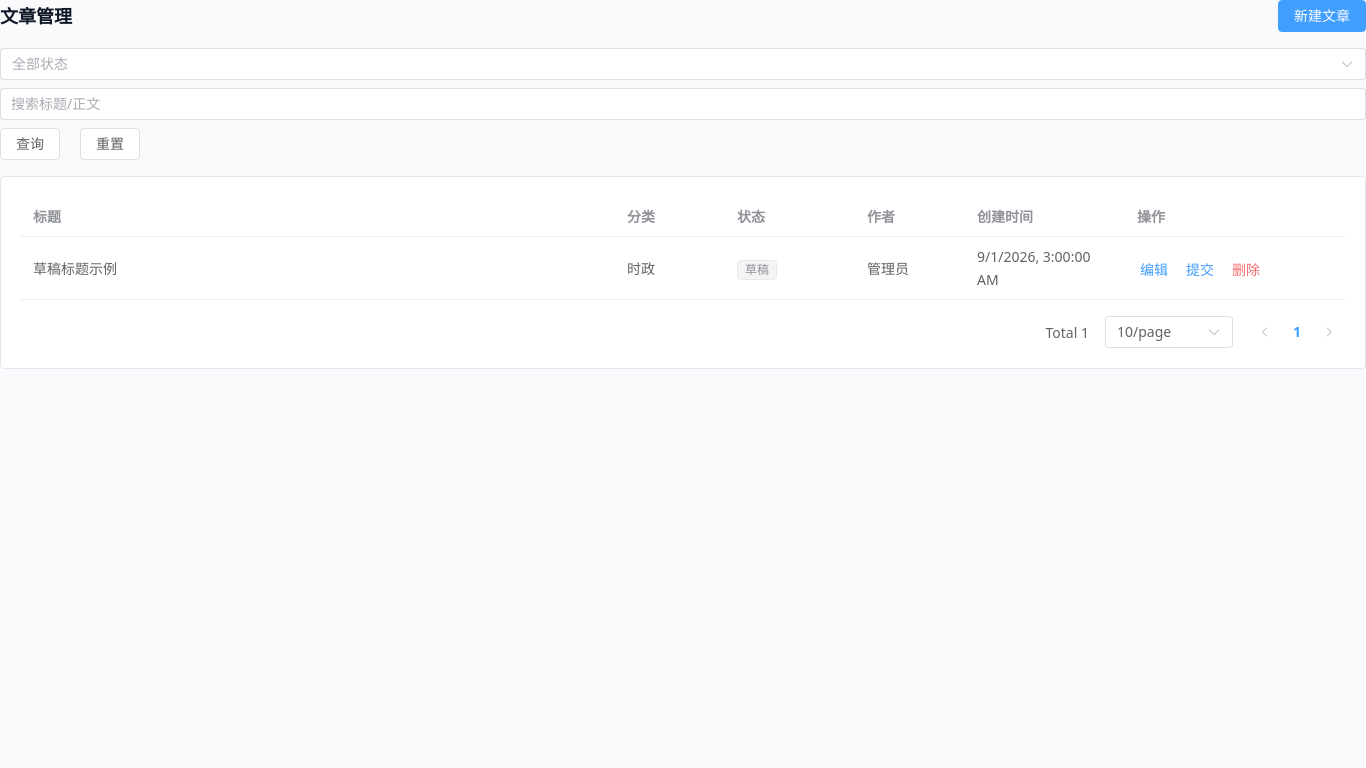
Test case: ArticlesView › 点击编辑打开对话框并回填文章内容
Step 1. Click the button "编辑" → (1154, 270), box [1137, 260, 1171, 280]
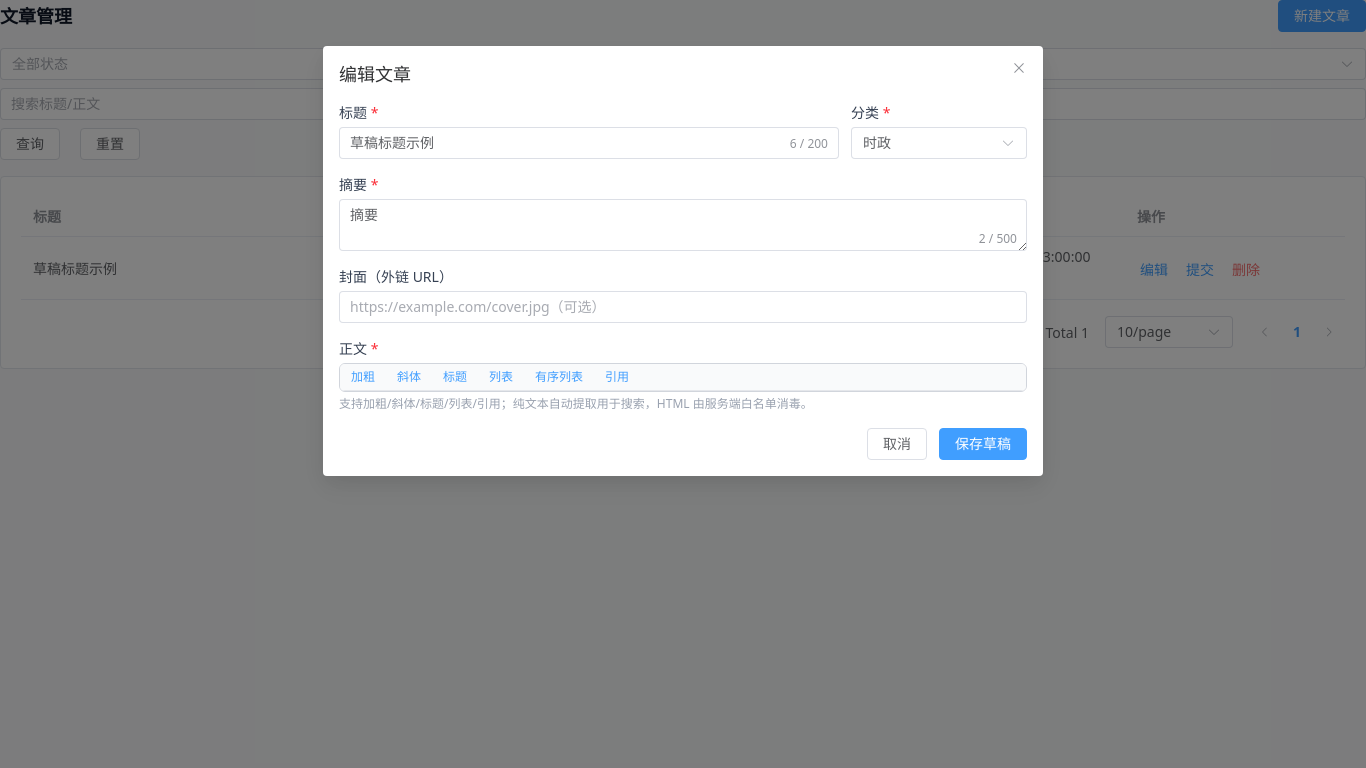
Expected: the text "编辑文章" is shown, [339, 62, 411, 86]
Expected: the field with placeholder "文章标题" holds "草稿标题示例", [350, 128, 774, 158]
